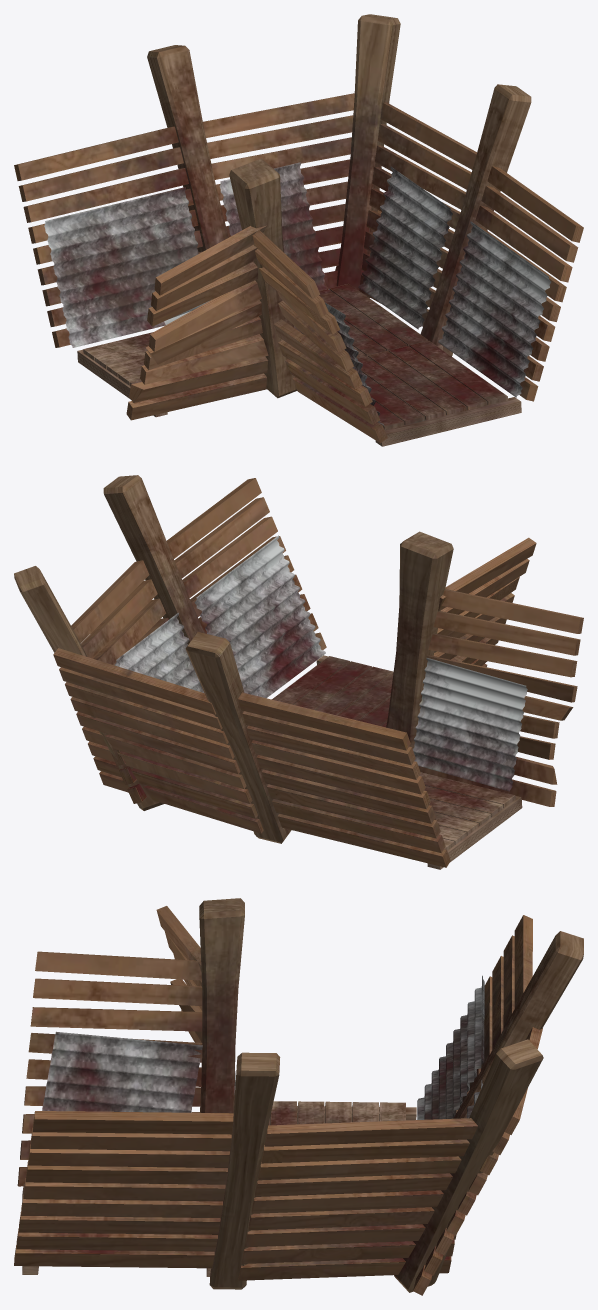
The model's file is trench_corner.glb.
The picture shows the model from 3 angles, top to bottom: view 1: azimuth 30°, elevation 25°; view 2: azimuth 150°, elevation 25°; view 3: azimuth 270°, elevation 25°; orthographic projection. The views are drawn at different scales.
Parts seen in each view (by area): view 1: Object198_Corner section_0; view 2: Object198_Corner section_0; view 3: Object198_Corner section_0.
Boxes of the visible parts, x1,y1,x2,y2 form: Object198_Corner section_0: (14, 14, 583, 446); Object198_Corner section_0: (14, 475, 583, 869); Object198_Corner section_0: (14, 898, 583, 1295).
Size of the model in its own units: 4.52 by 2.54 by 4.65.
1 material, 1 textured.
